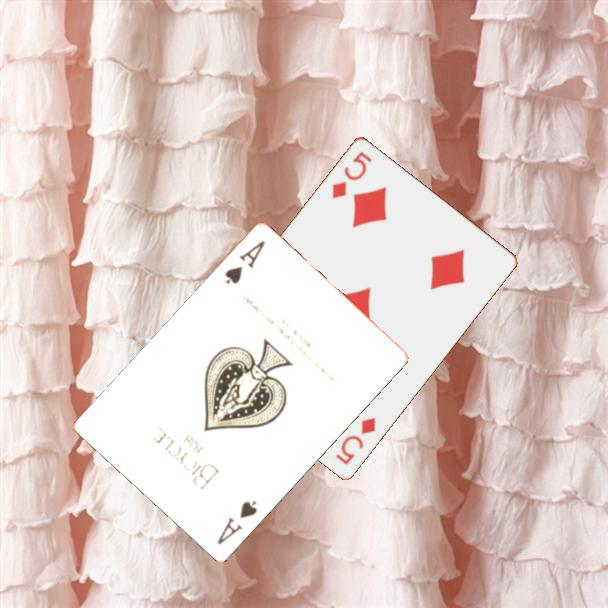d05: (328, 147, 375, 201), (332, 413, 378, 467)
s01: (213, 497, 260, 548), (221, 237, 268, 288)
